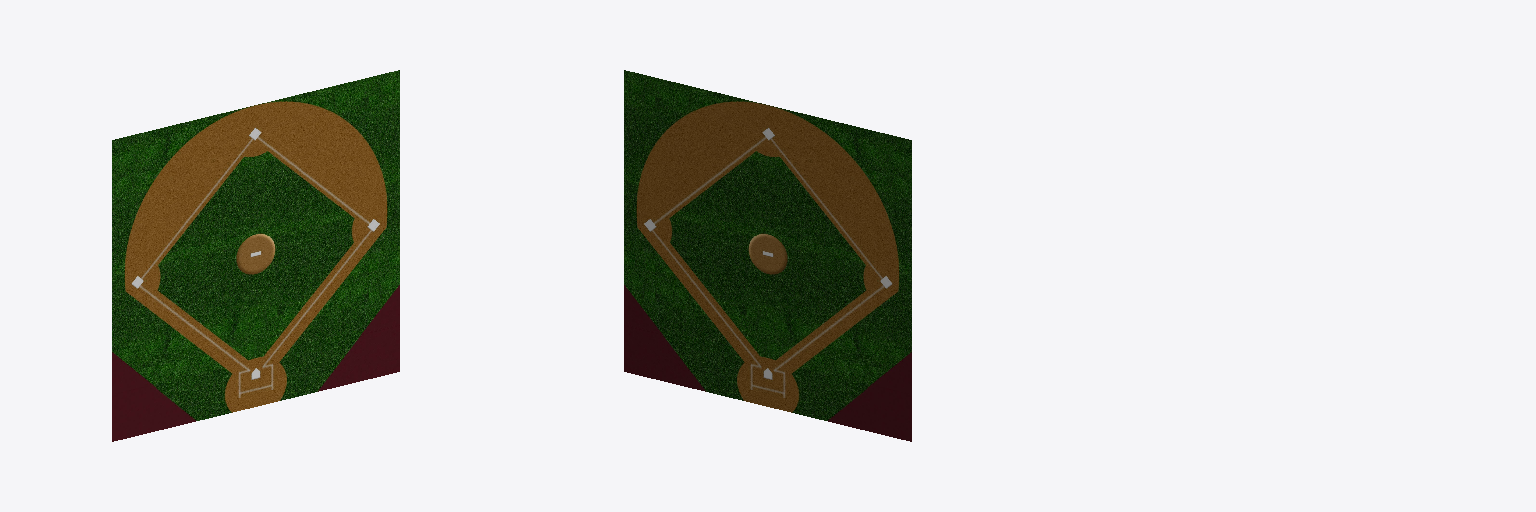
3 views of the same model, side by side, from view 1: azimuth 30°, elevation 25°; view 2: azimuth 150°, elevation 25°; view 3: azimuth 270°, elevation 25° (orthographic).
Parts seen in each view (by area): view 1: Plane; view 2: Plane; view 3: none.
Boxes of the visible parts, <box> form: Plane: <box>112,70,399,441</box>; Plane: <box>624,70,911,441</box>.
Bounding box in the file's own units: 60 × 60 × 0.
Materials: 1 (1 with a texture image).